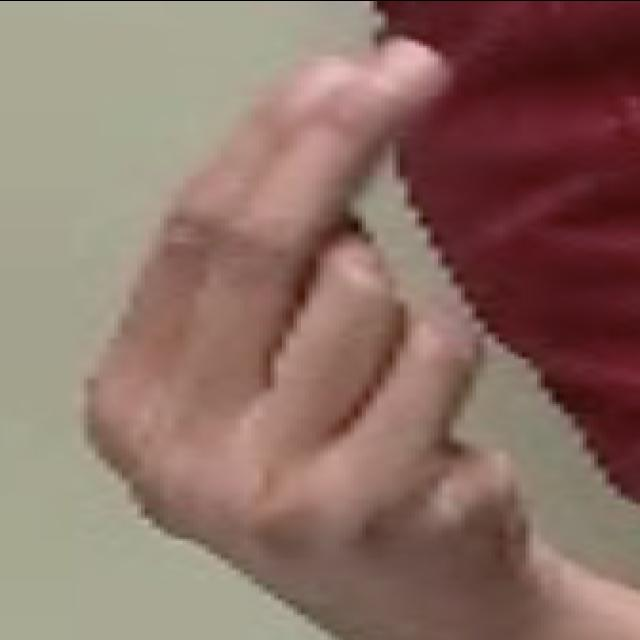N: (52, 33, 573, 600)
